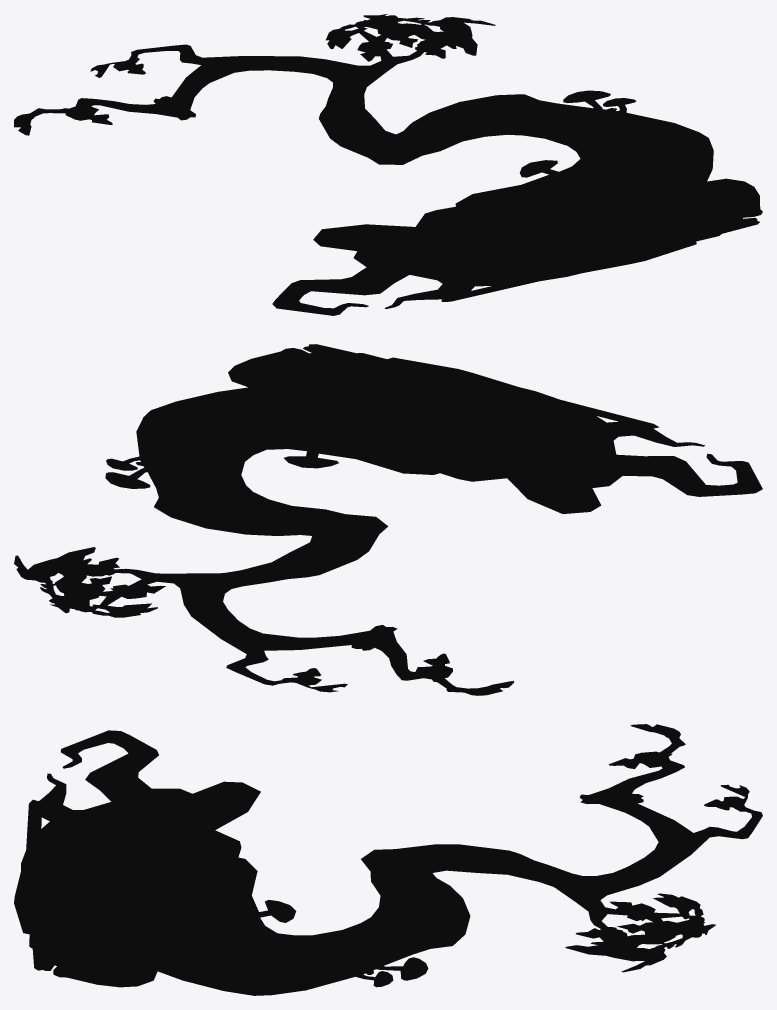
Rendered from left.fbx.
3 views of the same model, one above another, from view 1: azimuth 30°, elevation 25°; view 2: azimuth 150°, elevation 25°; view 3: azimuth 270°, elevation 25° (orthographic). The views are drawn at different scales.
Visible parts, largest first — view 1: left; view 2: left; view 3: left.
Boxes of the visible parts, x1,y1,x2,y2 form: left: (14,14,762,315); left: (14,344,762,695); left: (14,724,762,995).
Bounding box in the file's own units: 16890 × 0.012 × 19667.
